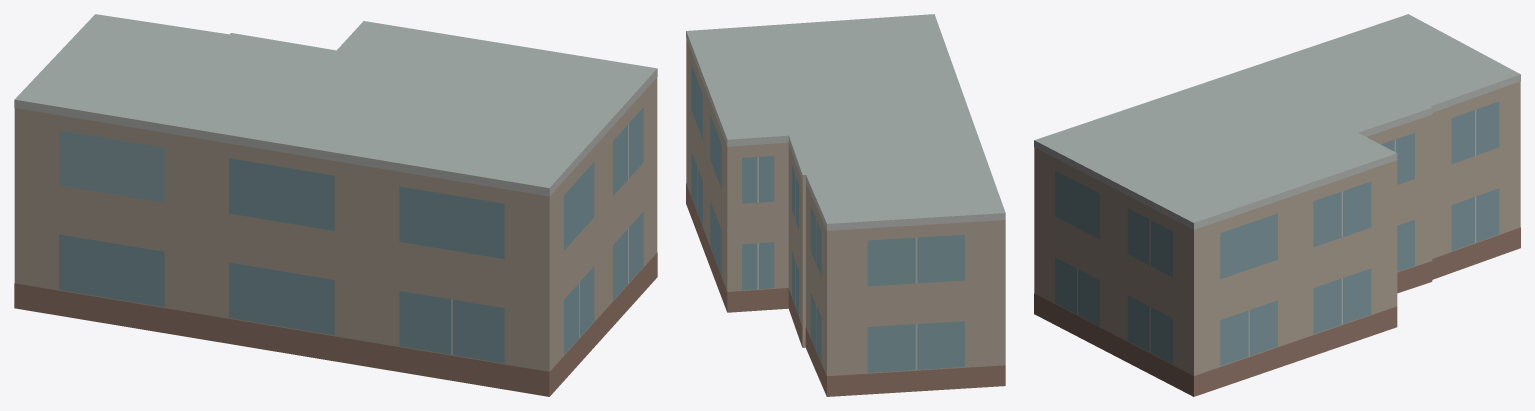
The model's file is survey-upis-32781319.glb.
3 views of the same model, side by side, from view 1: azimuth 30°, elevation 25°; view 2: azimuth 150°, elevation 25°; view 3: azimuth 270°, elevation 25° (orthographic). The views are drawn at different scales.
Parts seen in each view (by area): view 1: survey-upis-32781319.tmp; view 2: survey-upis-32781319.tmp; view 3: survey-upis-32781319.tmp.
Part boxes in pixels (x1,y1,x2,y2): survey-upis-32781319.tmp: [14, 14, 657, 396]; survey-upis-32781319.tmp: [686, 14, 1005, 396]; survey-upis-32781319.tmp: [1034, 14, 1520, 396].
Size of the model in its own units: 15.74 by 6.1 by 15.48.
